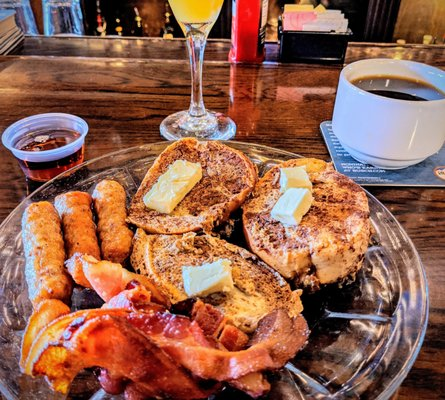pizza: (331, 57, 445, 170), (1, 112, 89, 188)
sushi: (1, 112, 89, 185)
